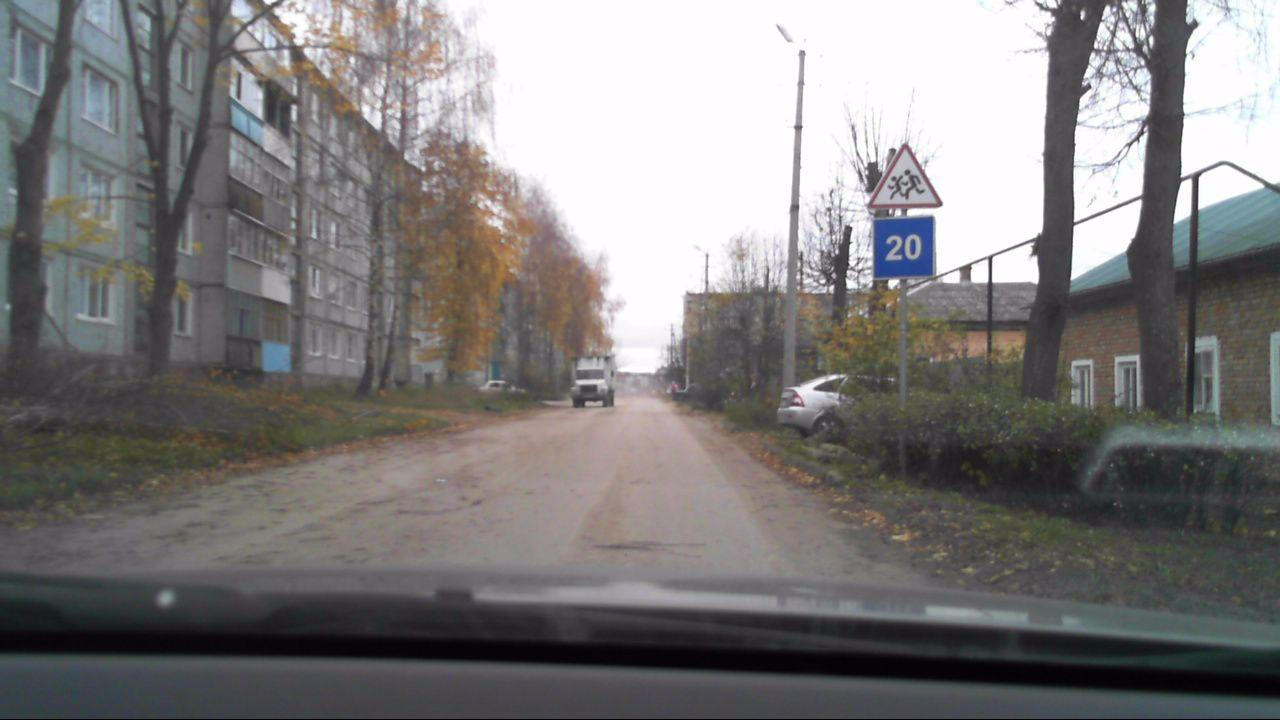1_23: (863, 139, 945, 209)
6_2: (873, 215, 933, 278)
